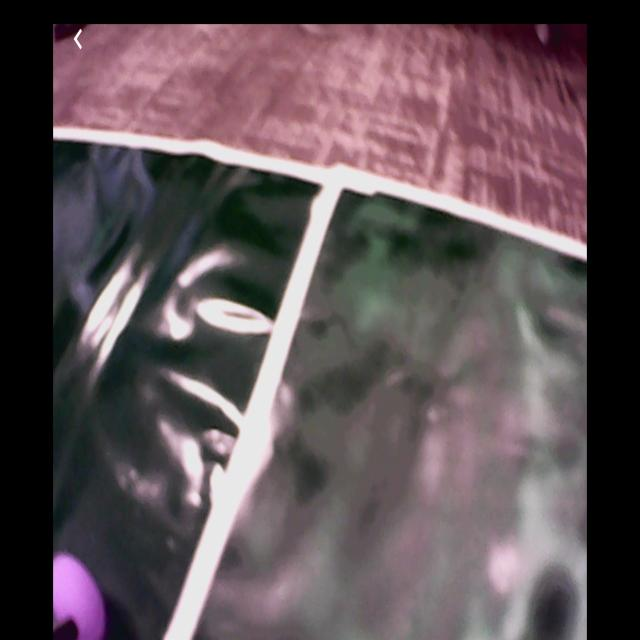ball: (54, 553, 109, 640)
